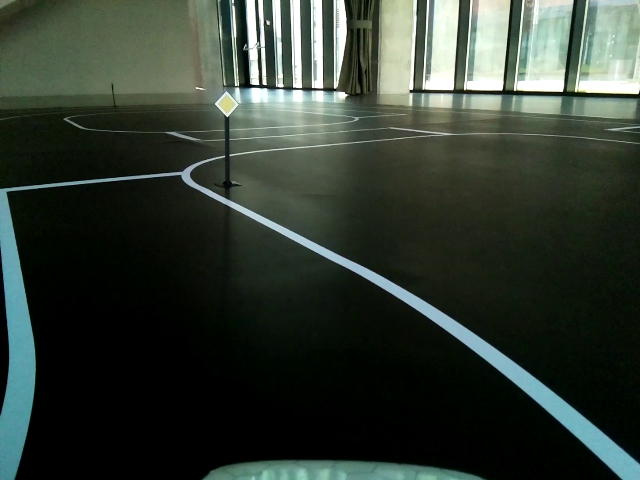priority: (214, 90, 238, 117)
